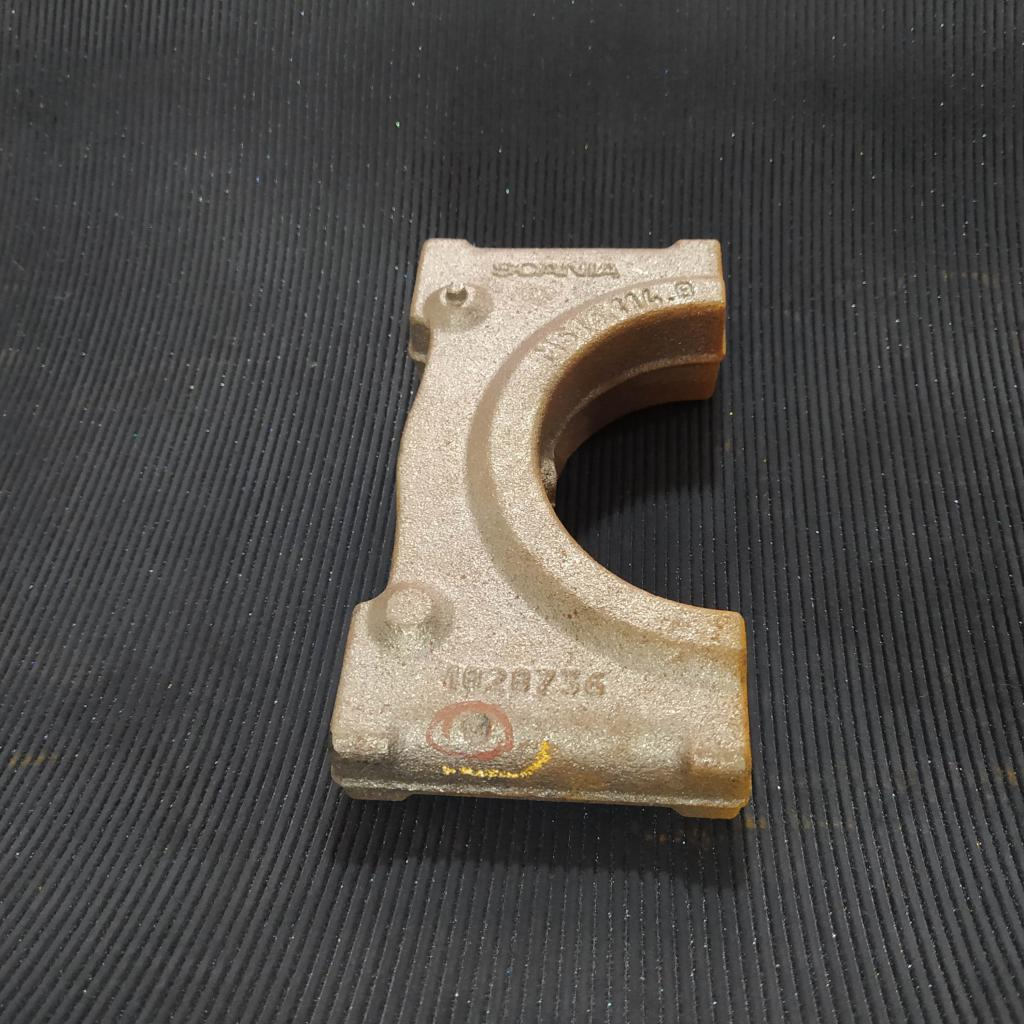buraco: (459, 712, 495, 749)
